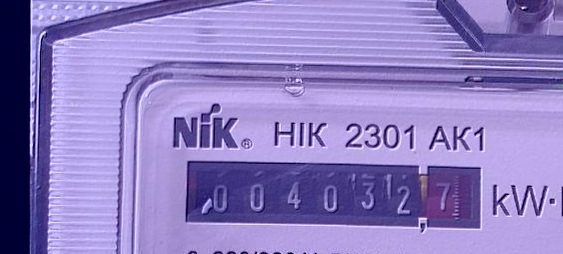0: (246, 180, 266, 214), (210, 180, 229, 213), (320, 181, 339, 214)
2: (394, 182, 412, 216)
3: (358, 179, 376, 211)
4: (283, 178, 303, 214)
7: (435, 179, 452, 212)
screen: (175, 152, 490, 241)
